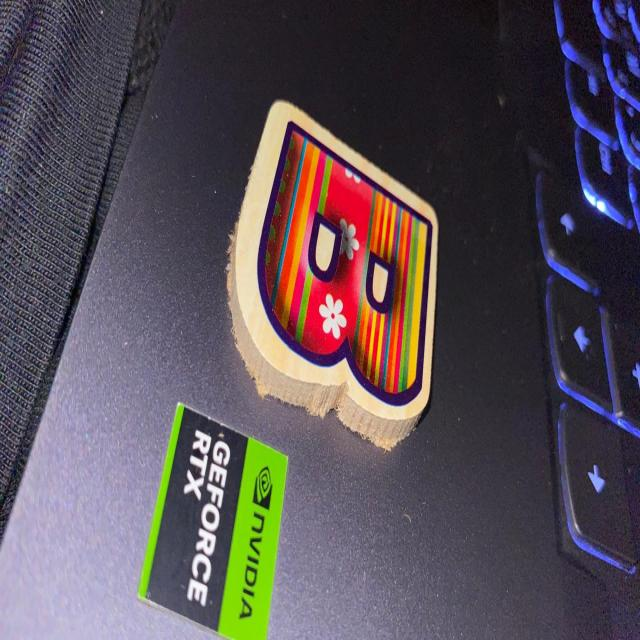B: (228, 100, 438, 447)
